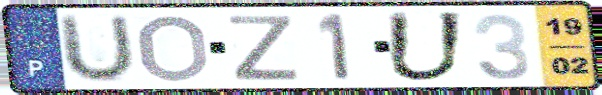1: (315, 11, 355, 83)
3: (471, 11, 533, 81)
O: (136, 13, 212, 84)
U: (383, 9, 468, 84), (58, 12, 138, 86)
Z: (226, 13, 301, 82)
